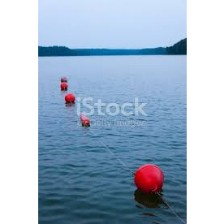buoy: (133, 164, 166, 195), (80, 114, 91, 128), (65, 93, 76, 103), (60, 83, 69, 91), (61, 76, 68, 83)
